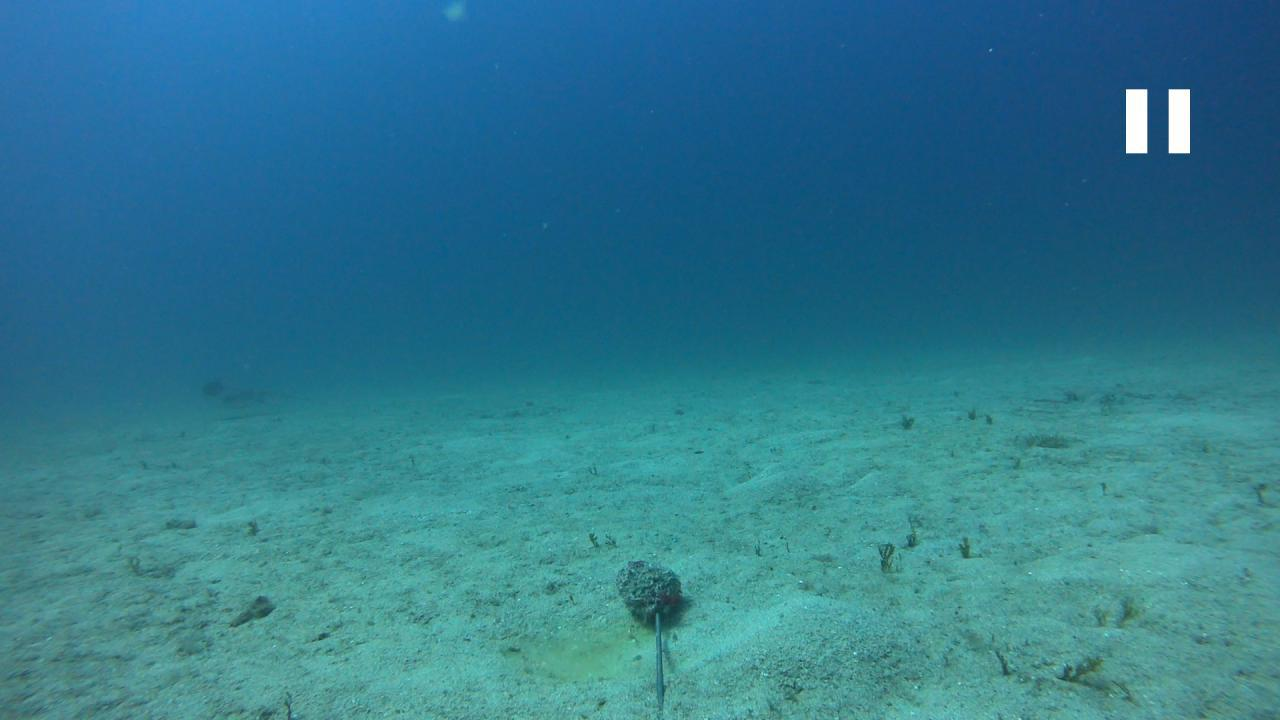dasyatis: (196, 375, 306, 408)
